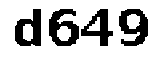4: (79, 3, 114, 50)
6: (45, 2, 82, 49)
9: (116, 5, 152, 50)
d: (9, 3, 44, 51)
